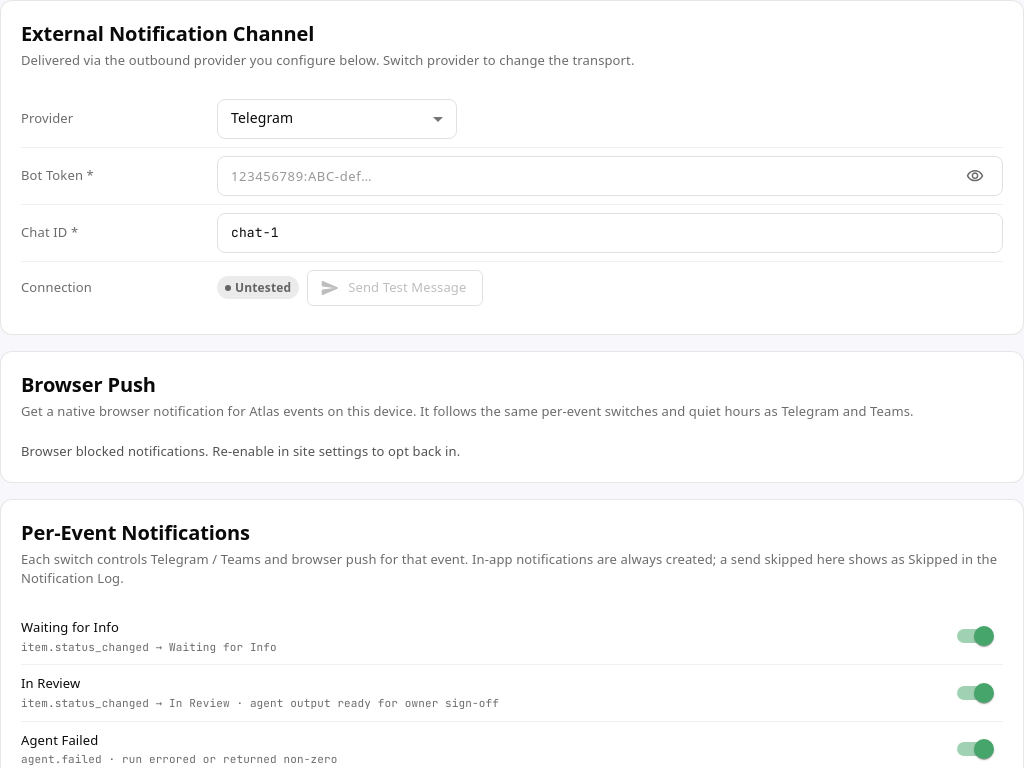
Test: NotificationsTab › clicking the eye after typing a token does not blur-save it
The image size is (1024, 768).
Expected: the field showing "chat-1" is shown, top-left (217, 212), bottom-right (1003, 252)
Type "111:half-typed" into the password field with placeholder "123456789:ABC-def…".
click(585, 176); type("111:half-typed")  # box top-left (217, 156), bottom-right (953, 196)
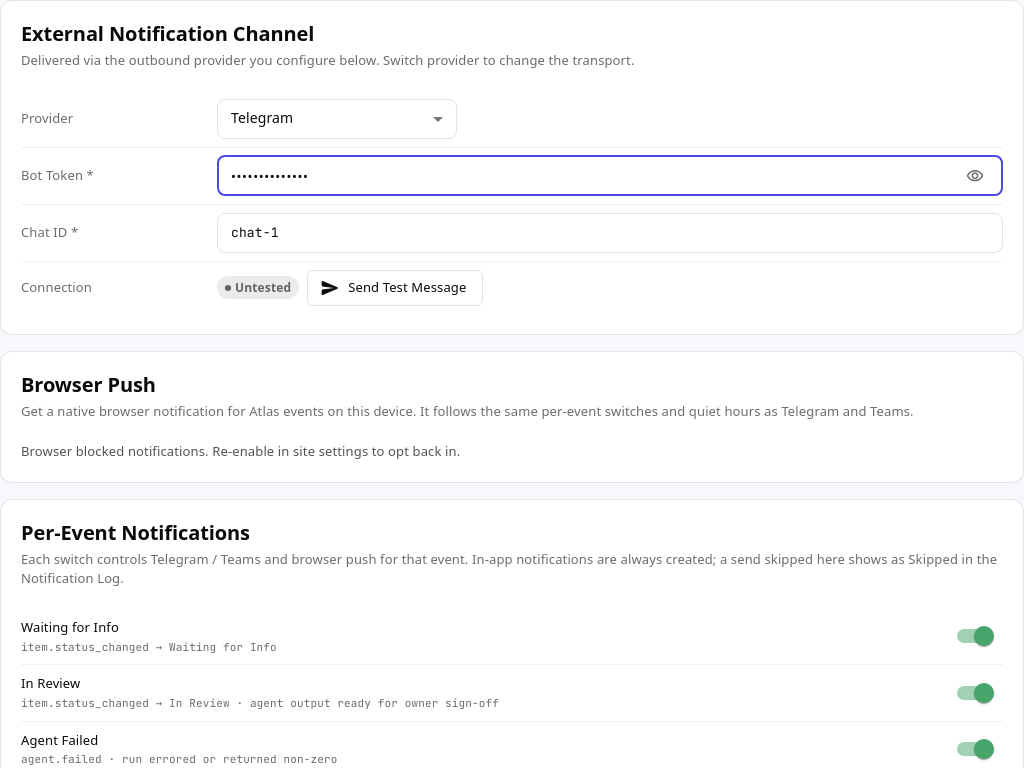
Press the mouse on the button named "Reveal token" at point(975, 176), box top-left (961, 162), bottom-right (989, 190)
Click the button named "Reveal token".
click(975, 176)  # box top-left (961, 162), bottom-right (989, 190)
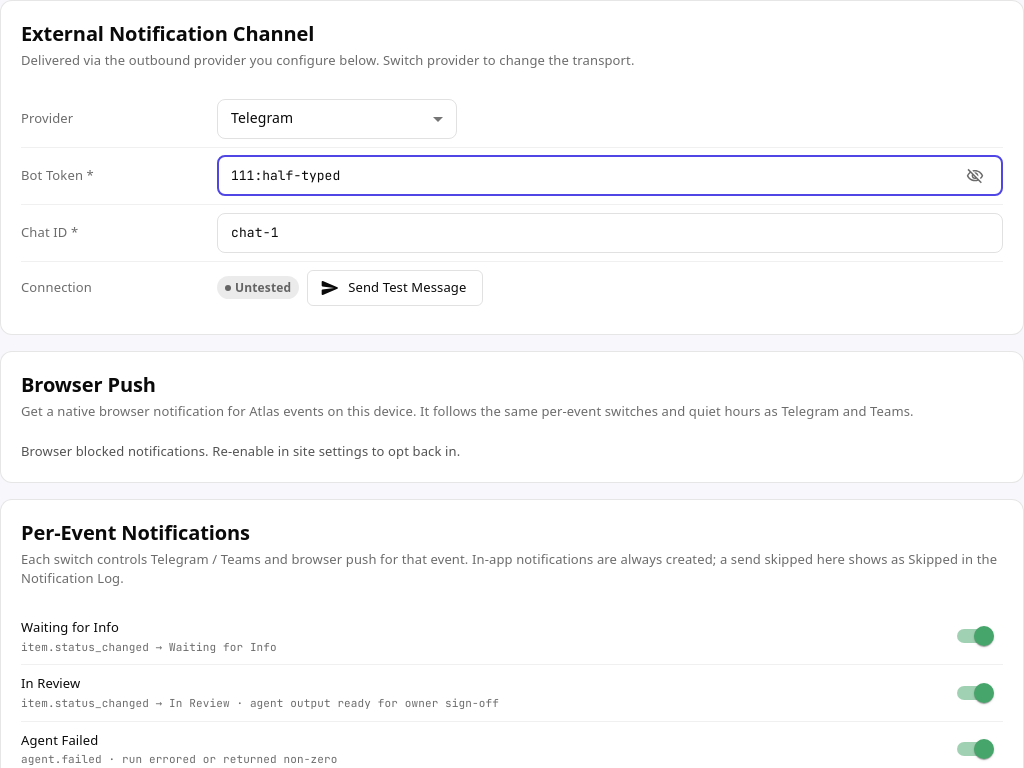
Expected: the field with placeholder "123456789:ABC-def…" shows its text, top-left (217, 156), bottom-right (953, 196)
